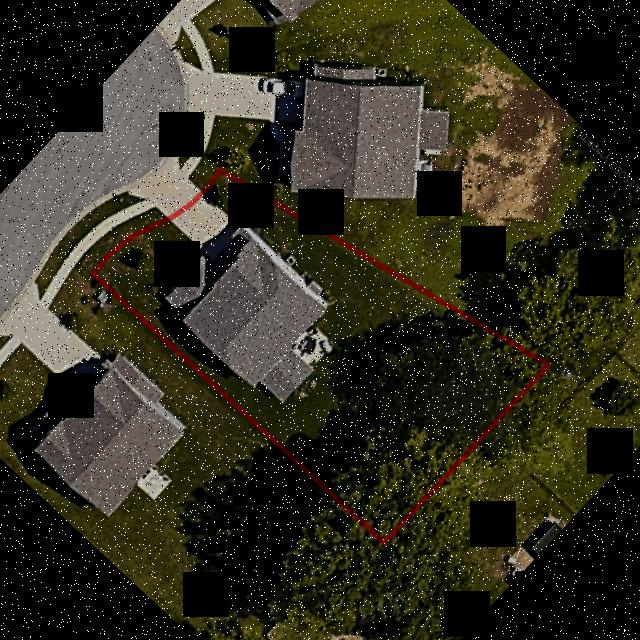Driveway: (170, 194, 231, 249)
Extra Driveway: (127, 151, 199, 216)
Extra Lawn: (81, 207, 167, 271), (56, 193, 141, 255), (191, 160, 217, 187), (176, 143, 191, 166)
Extra Sidewalk: (68, 200, 154, 261), (181, 153, 202, 176)
House: (163, 240, 326, 404)
Other: (292, 327, 333, 366)
Sidewalk: (236, 224, 328, 308), (193, 227, 235, 262)
